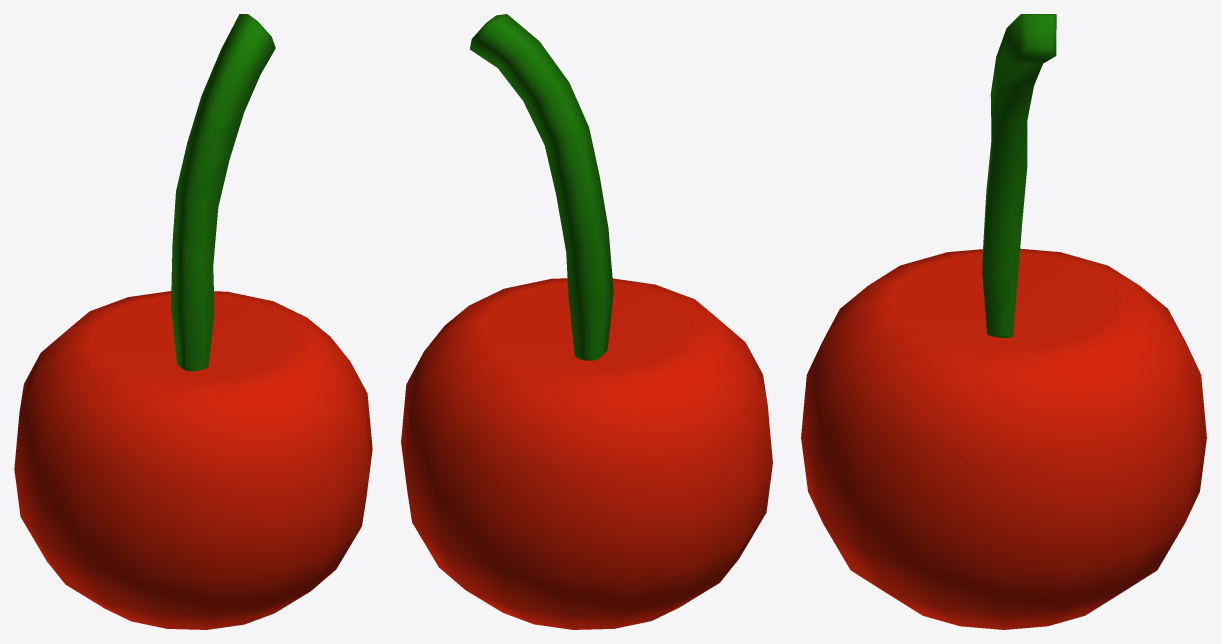
Rendered from Cherry.fbx.
3 views of the same model, side by side, from view 1: azimuth 30°, elevation 25°; view 2: azimuth 150°, elevation 25°; view 3: azimuth 270°, elevation 25° (orthographic). The views are drawn at different scales.
Visible parts, largest first — view 1: Cherry; view 2: Cherry; view 3: Cherry.
Part boxes in pixels (x1,y1,x2,y2): Cherry: (14, 14, 372, 629); Cherry: (401, 14, 772, 629); Cherry: (801, 14, 1206, 629).
Size of the model in its own units: 0.1836 by 0.313 by 0.1836.
